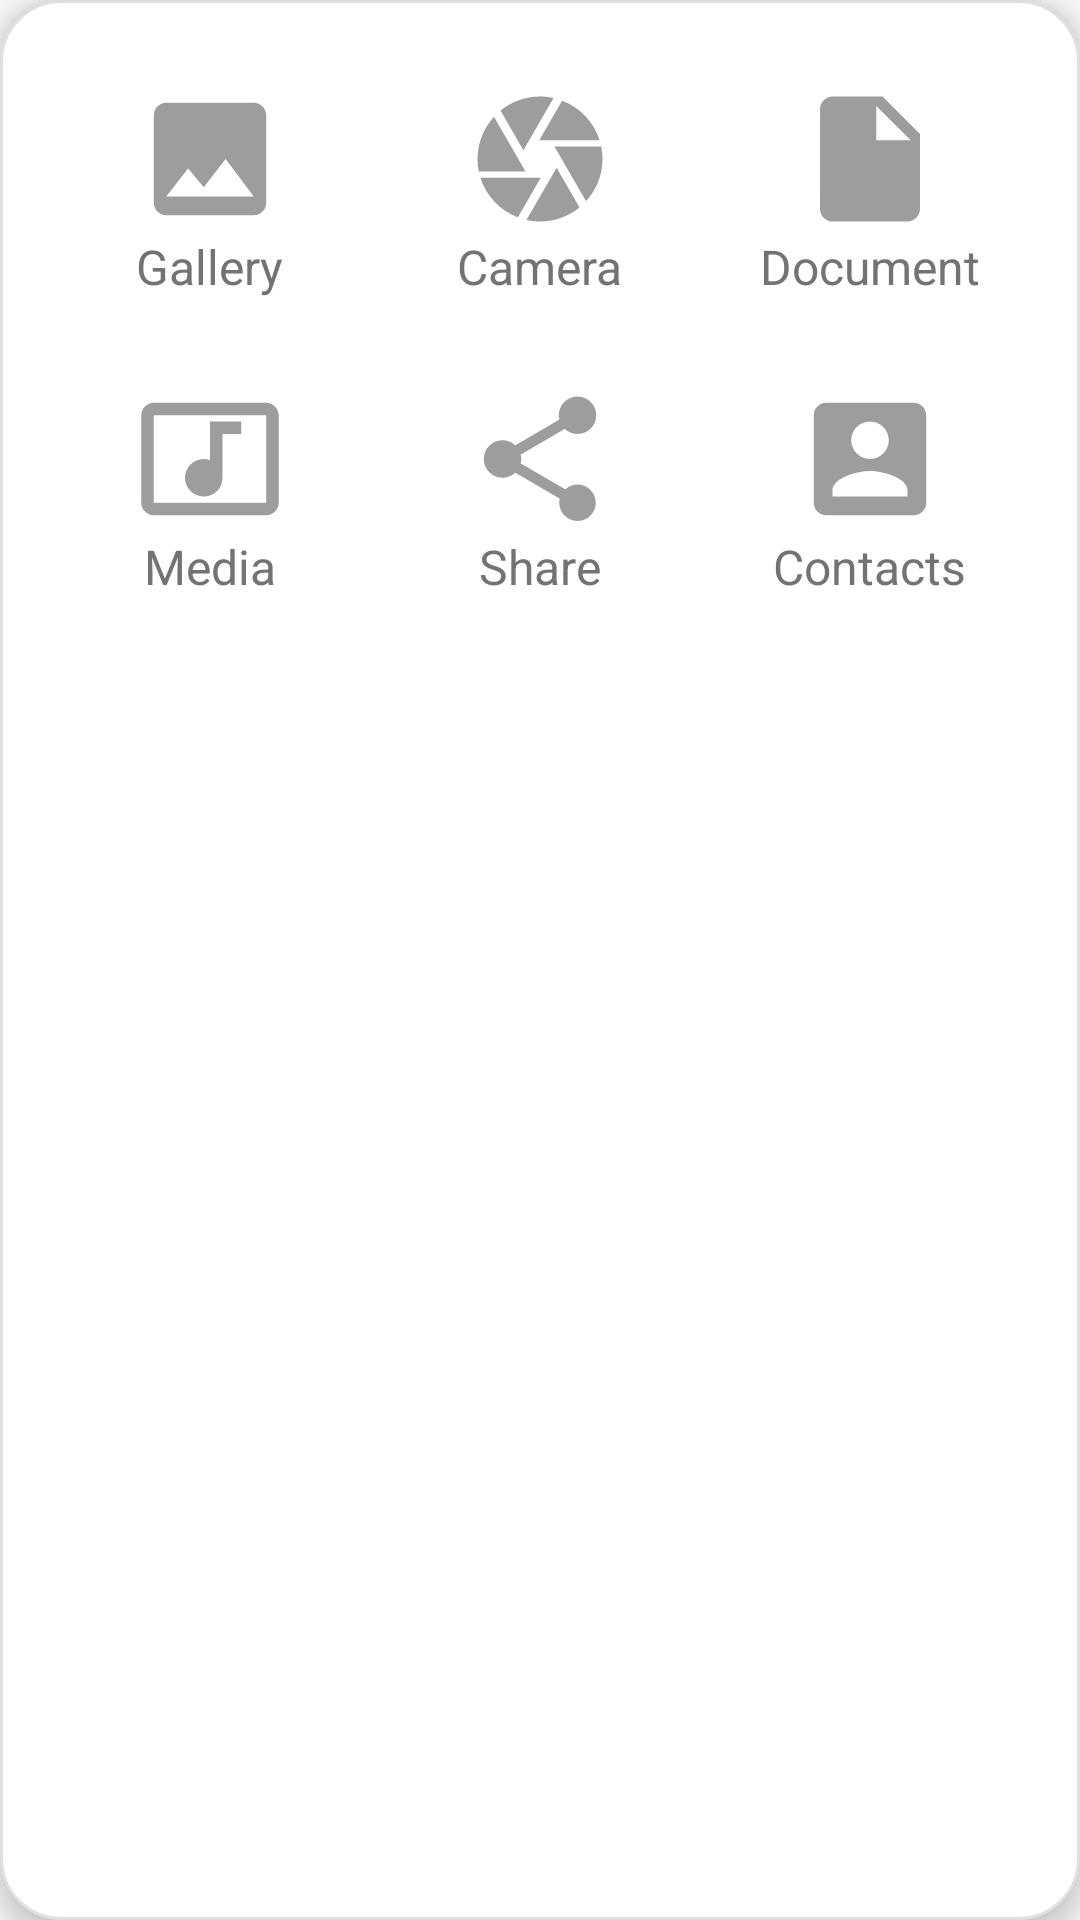

Icons on this 1080px×1920px Android screen, each with its box as (x1, y1, x2, y2):
account box: (814, 403, 926, 515)
music video: (141, 403, 279, 515)
